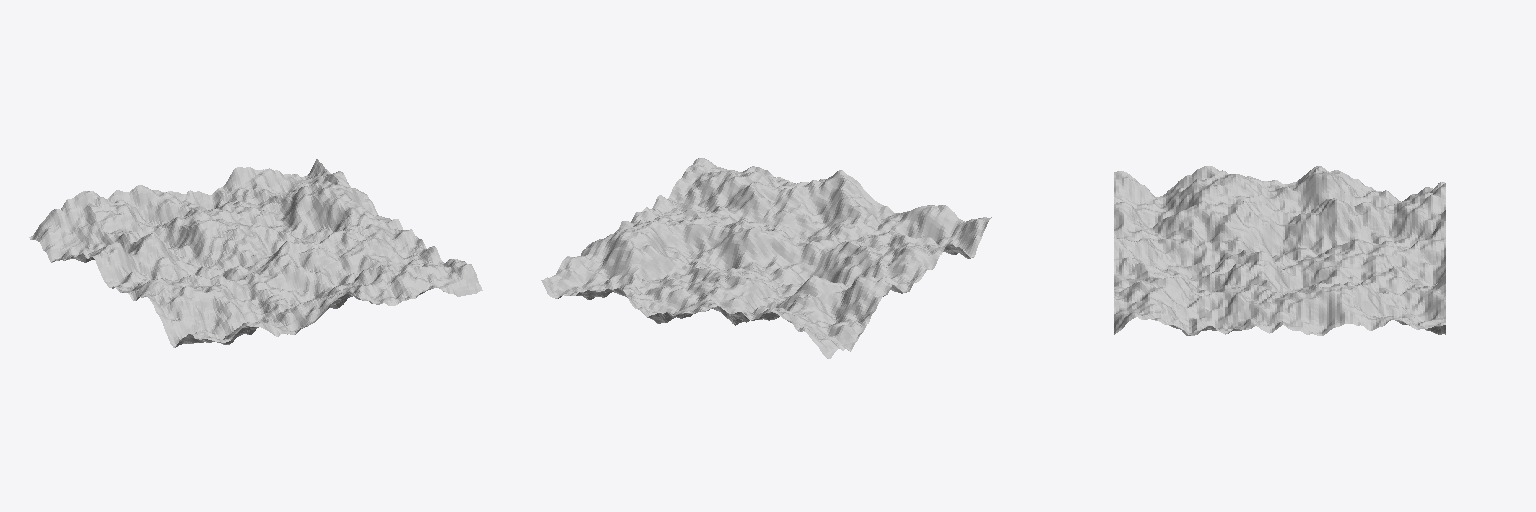
File: terrain2.obj
The picture shows the model from 3 angles: view 1: azimuth 30°, elevation 25°; view 2: azimuth 150°, elevation 25°; view 3: azimuth 270°, elevation 25°; orthographic projection.
Visible parts, largest first — view 1: Plane; view 2: Plane; view 3: Plane.
Boxes of the visible parts, x1,y1,x2,y2 form: Plane: [29, 159, 482, 347]; Plane: [541, 158, 991, 358]; Plane: [1114, 166, 1445, 335].
Bounding box in the file's own units: 320 × 56.69 × 320.